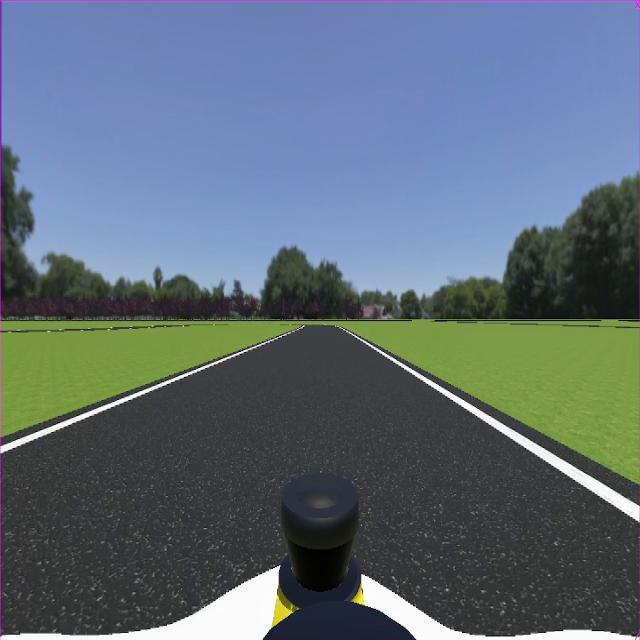road: (2, 327, 638, 634)
solid_line: (345, 331, 640, 522), (0, 328, 302, 454)
